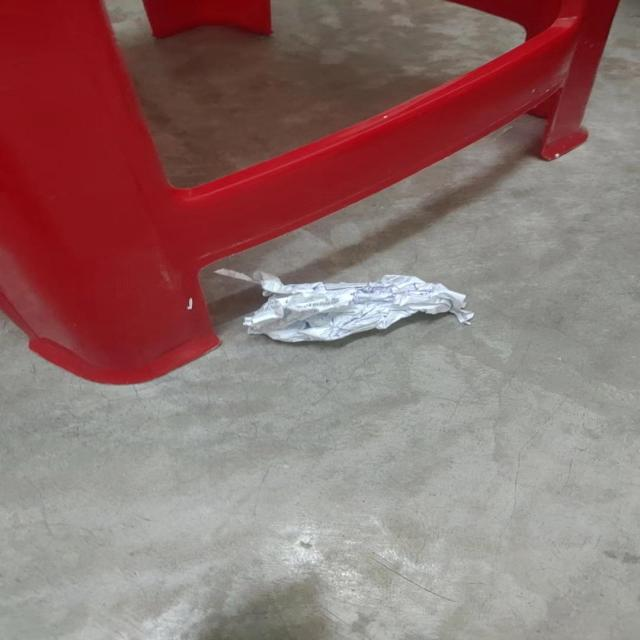paper: (224, 264, 491, 347)
